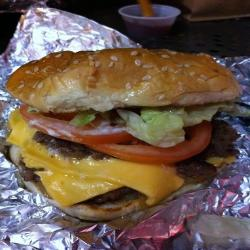burger: (6, 45, 240, 230)
ketchup: (119, 2, 186, 41)
